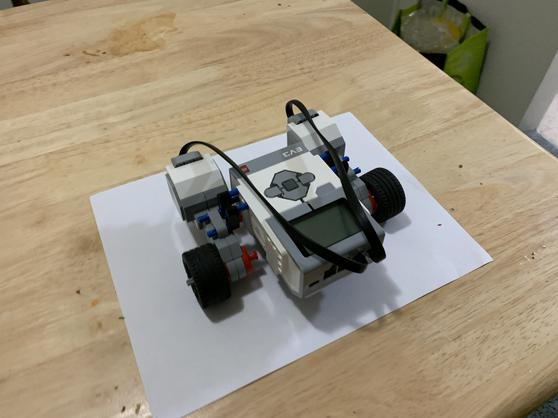robot: (159, 98, 408, 307)
